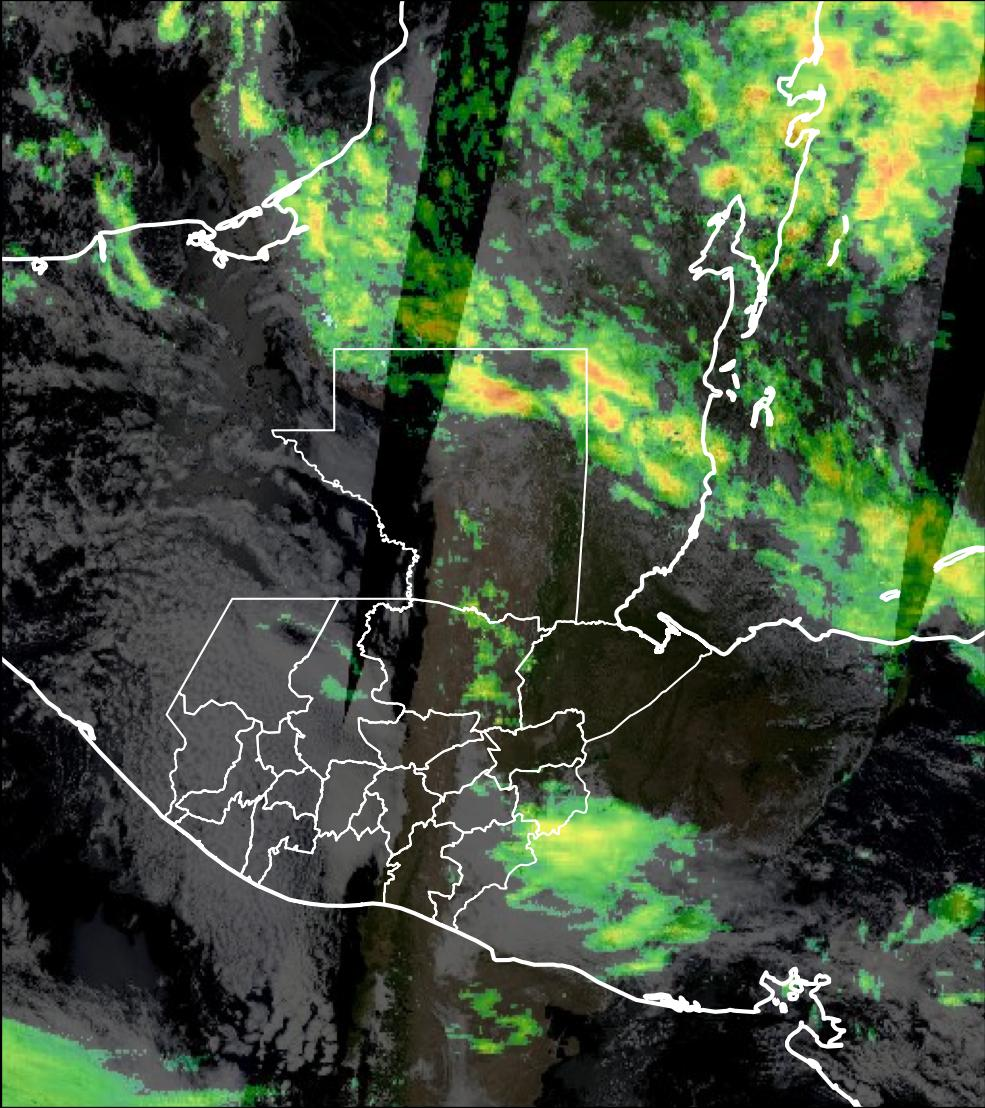precipitacion: (899, 69, 985, 133), (450, 369, 540, 421)
